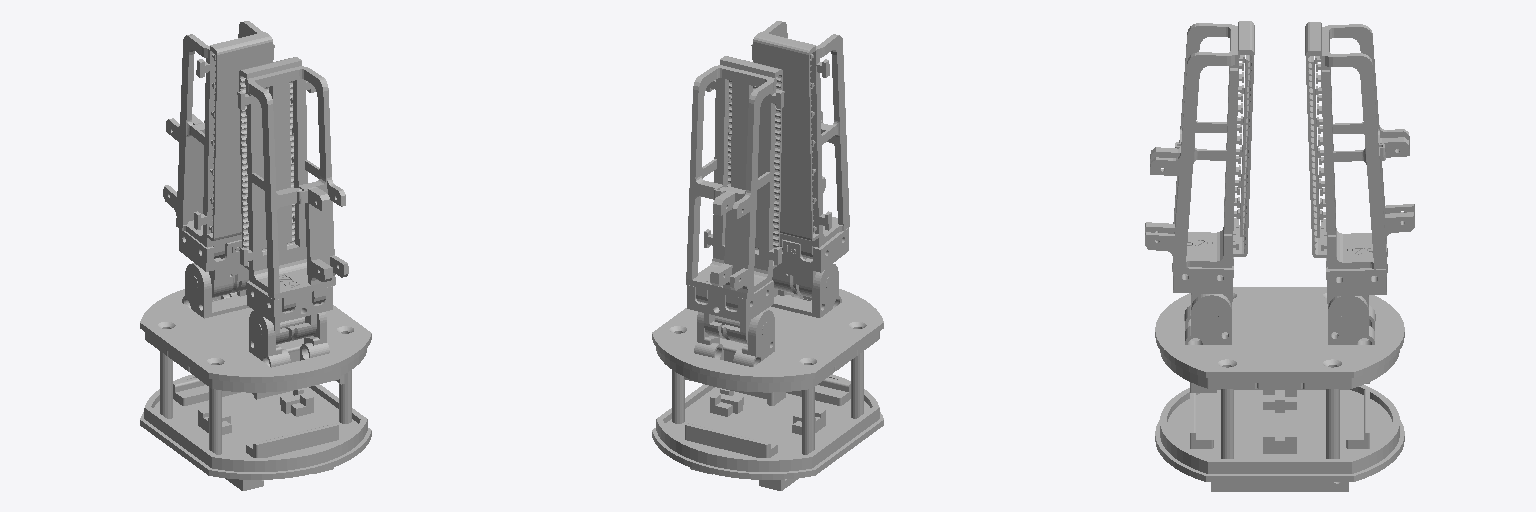
URDF robot description (gripper):
<?xml version="1.0" encoding="utf-8"?>
<robot name="gripper">
  <gazebo>
      <plugin name="gazebo_ros_control" filename="libgazebo_ros_control.so">
        <robotNamespace>/gripper</robotNamespace>
        <robotSimType>gazebo_ros_control/DefaultRobotHWSim</robotSimType>
        <legacyModeNS>true</legacyModeNS>
      </plugin>
  </gazebo>

  <gazebo reference="L1">
    <mu1>1</mu1>
    <mu2>1</mu2>
    <kp>10000000</kp>
    <kd>1</kd>
    <minDepth>0.001</minDepth>
  </gazebo>

  <gazebo reference="L2">
    <mu1>1</mu1>
    <mu2>1</mu2>
    <kp>10000000</kp>
    <kd>1</kd>
    <minDepth>0.001</minDepth>
  </gazebo>

  <link name="world">
    <origin xyz="0 0 0" rpy="0 0 0"/>
  </link>

  <joint name="fixed"  type="fixed">
    <parent link="world"/>
    <child link="base_link"/>
  </joint>

  <link
    name="base_link">
    <inertial>
      <origin
        xyz="6.6061E-06 6.4177E-05 0.027251"
        rpy="0 0 0" />
      <mass
        value="0.15337" />
      <inertia
        ixx="0.0001038"
        ixy="5.6961E-07"
        ixz="-6.9342E-13"
        iyy="7.4038E-05"
        iyz="-4.4165E-08"
        izz="0.00017386" />
    </inertial>
    <visual>
      <origin
        xyz="0 0 0"
        rpy="0 0 0" />
      <geometry>
        <mesh
          filename="package://gripper/meshes/base_link.STL" />
      </geometry>
      <material
        name="">
        <color
          rgba="0.75294 0.75294 0.75294 1" />
      </material>
    </visual>
  </link>

  <link
    name="L1">
    <inertial>
      <origin
        xyz="1.7149E-05 0.0014078 0.049755"
        rpy="0 0 0" />
      <mass
        value="0.037478" />
      <inertia
        ixx="3.7231E-05"
        ixy="4.835E-07"
        ixz="3.5543E-07"
        iyy="3.6319E-05"
        iyz="-3.9016E-06"
        izz="8.1669E-06" />
    </inertial>
    <visual>
      <origin
        xyz="0 0 0"
        rpy="0 0 0" />
      <geometry>
        <mesh
          filename="package://gripper/meshes/L1.STL" />
      </geometry>
      <material
        name="">
        <color
          rgba="0.75294 0.75294 0.75294 1" />
      </material>
    </visual>
    <collision>
      <origin
        xyz="0 0 0"
        rpy="0 0 0" />
      <geometry>
        <mesh
          filename="package://gripper/meshes/L1.STL" />
      </geometry>
    </collision>
  </link>

<!-- right finger -->
  <joint
    name="J1"
    type="continuous">
    <origin
      xyz="0 -0.02985 0.06936"
      rpy="0 0 0" />
    <parent
      link="base_link" />
    <child
      link="L1" />
    <axis
      xyz="1 0 0" />
    <dynamics damping="0.01" friction="0.01"/>
    <limit
      lower="0"
      upper="0"
      effort="10"
      velocity="0.5" />
      <hardwareInterface>EffortJointInterface</hardwareInterface>
  </joint>



  <link
    name="L2">
    <inertial>
      <origin
        xyz="-0.000917152694428269 0.00358803500603186 0.0496456329588647"
        rpy="0 0 0" />
      <mass
        value="0.0374781252555018" />
      <inertia
        ixx="3.72312944777091E-05"
        ixy="4.4542620900761E-07"
        ixz="-4.02118046472307E-07"
        iyy="3.68148926584893E-05"
        iyz="1.01465713209036E-06"
        izz="7.67152143751456E-06" />
    </inertial>
    <visual>
      <origin
        xyz="0 0 0"
        rpy="0 0 0" />
      <geometry>
        <mesh
          filename="package://gripper/meshes/L1.STL" />
      </geometry>
      <material
        name="">
        <color
          rgba="0.752941176470588 0.752941176470588 0.752941176470588 1" />
      </material>
    </visual>
    <collision>
      <origin
        xyz="0 0 0"
        rpy="0 0 0" />
      <geometry>
        <mesh
          filename="package://gripper/meshes/L1.STL" />
      </geometry>
    </collision>
  </link>

<!-- left finger -->
  <joint
    name="J2"
    type="continuous">
    <origin
      xyz="0 0.02985 0.06936"
      rpy="0 0 3.1415" />
    <parent
      link="base_link" />
    <child
      link="L2" />
    <axis
      xyz="1 0 0" />
    <dynamics damping="0.01" friction="0.01"/>
    <limit
      lower="0"
      upper="0"
      effort="10"
      velocity="0.5" />
      <hardwareInterface>EffortJointInterface</hardwareInterface>
  </joint>

  <transmission name="head_swivel_trans1">
    <type>transmission_interface/SimpleTransmission</type>
    <joint name="J1">
      <hardwareInterface>hardware_interface/EffortJointInterface</hardwareInterface>
    </joint>
    <actuator name="head_swivel_motor1">
      <hardwareInterface>hardware_interface/EffortJointInterface</hardwareInterface>
      <mechanicalReduction>1</mechanicalReduction>
    </actuator>
  </transmission>

  <transmission name="head_swivel_trans2">
    <type>transmission_interface/SimpleTransmission</type>
    <joint name="J2">
      <hardwareInterface>hardware_interface/EffortJointInterface</hardwareInterface>
    </joint>
    <actuator name="head_swivel_motor2">
      <mechanicalReduction>1</mechanicalReduction>
    </actuator>
  </transmission>

  <gazebo>
    <plugin name="friction_plugin" filename="libfriction_plugin.so"> </plugin>
    <!-- <low_friction>1e-1</low_friction>
    <high_friction>1e5</high_friction> -->
  </gazebo>

</robot>

--- Render facts (derived) ---
3 views of the same robot in one strip: view 1: azimuth 30°, elevation 25°; view 2: azimuth 150°, elevation 25°; view 3: azimuth 270°, elevation 25° (orthographic).
Robot: gripper — 4 links, 3 joints (2 continuous, 1 fixed); root link world; default pose: every joint at zero.
Visible links, largest first — view 1: base_link, L1, L2; view 2: base_link, L2, L1; view 3: base_link, L2, L1.
Link boxes in pixels (box(x1,y1,x2,y2)): base_link: box(140, 263, 371, 490); L1: box(237, 57, 348, 344); L2: box(163, 21, 274, 297); base_link: box(652, 264, 883, 490); L2: box(686, 56, 784, 344); L1: box(751, 21, 849, 297); base_link: box(1155, 287, 1404, 491); L2: box(1305, 22, 1414, 306); L1: box(1145, 21, 1254, 306).
Size in the robot's own frame: 0.088 by 0.1182 by 0.2083 metres.
Meshes: 2 distinct files referenced, 3 mesh visuals loaded (2 binary STL).